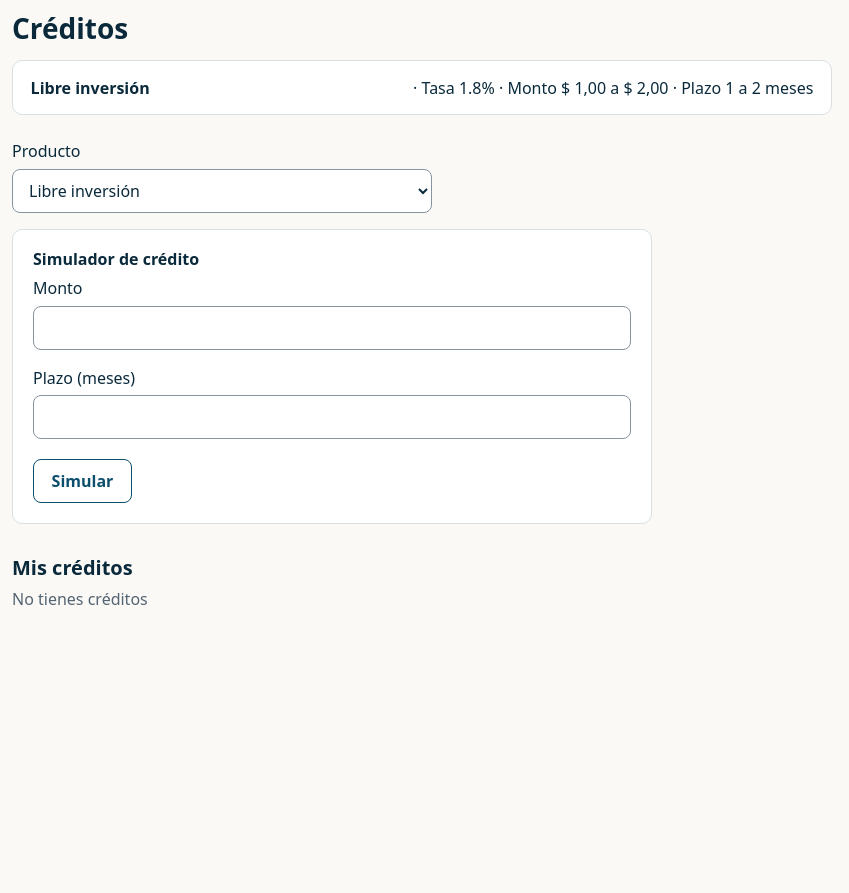
Test: Créditos › muestra tal cual el error de negocio al solicitar
The image size is (849, 893).
Type "5" into the number field labelled "Monto" at (332, 328), box [33, 306, 631, 350]
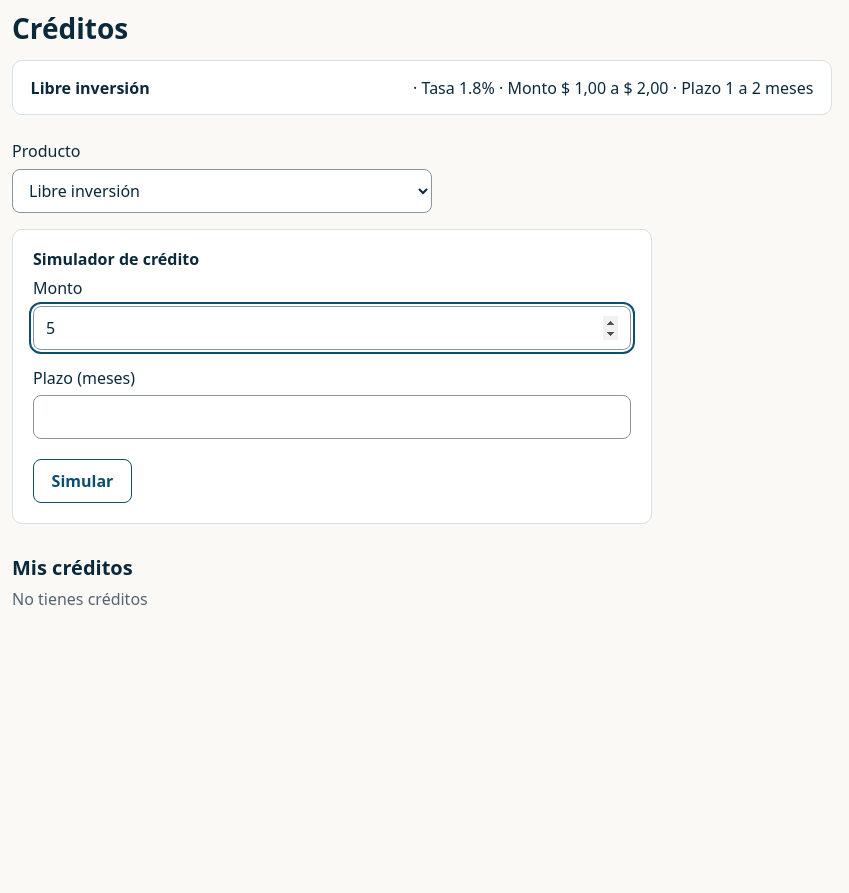
Type "1" into the number field labelled "Plazo (meses)" at (332, 417), box [33, 395, 631, 439]
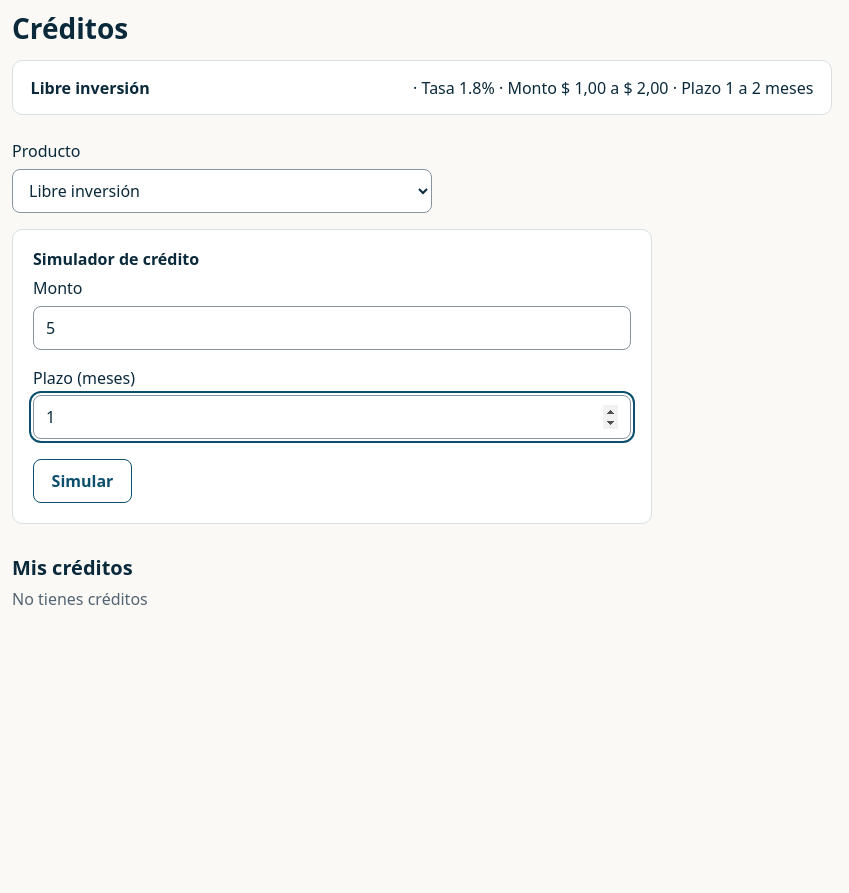
Click the button "Simular" at (82, 481), box [33, 459, 132, 503]
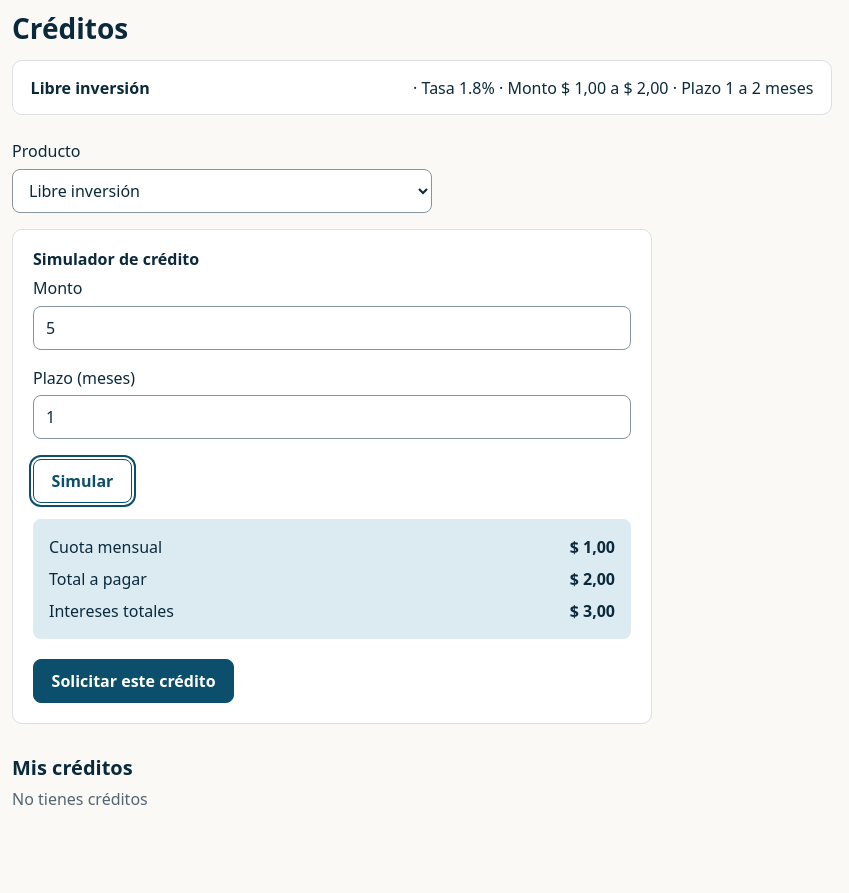
Click the button "Solicitar este crédito" at (134, 681), box [33, 659, 234, 703]
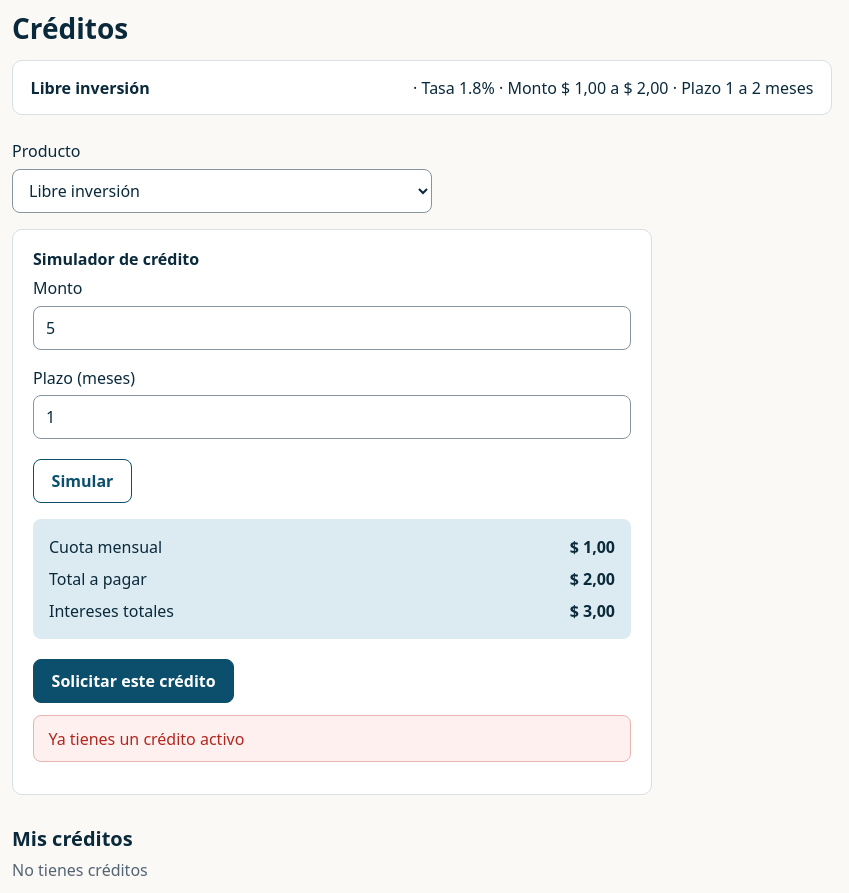
Expected: the text "Ya tienes un crédito activo" is shown, [33, 715, 631, 762]
